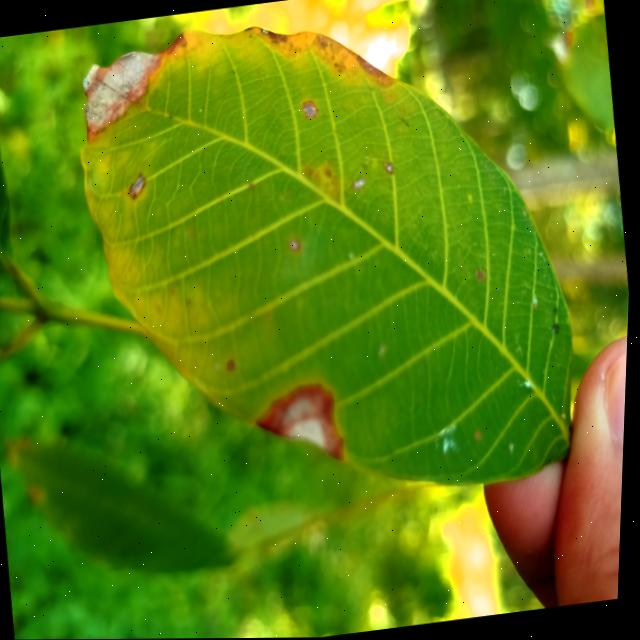Leaf-Blight: (76, 47, 171, 140), (261, 387, 346, 469)
